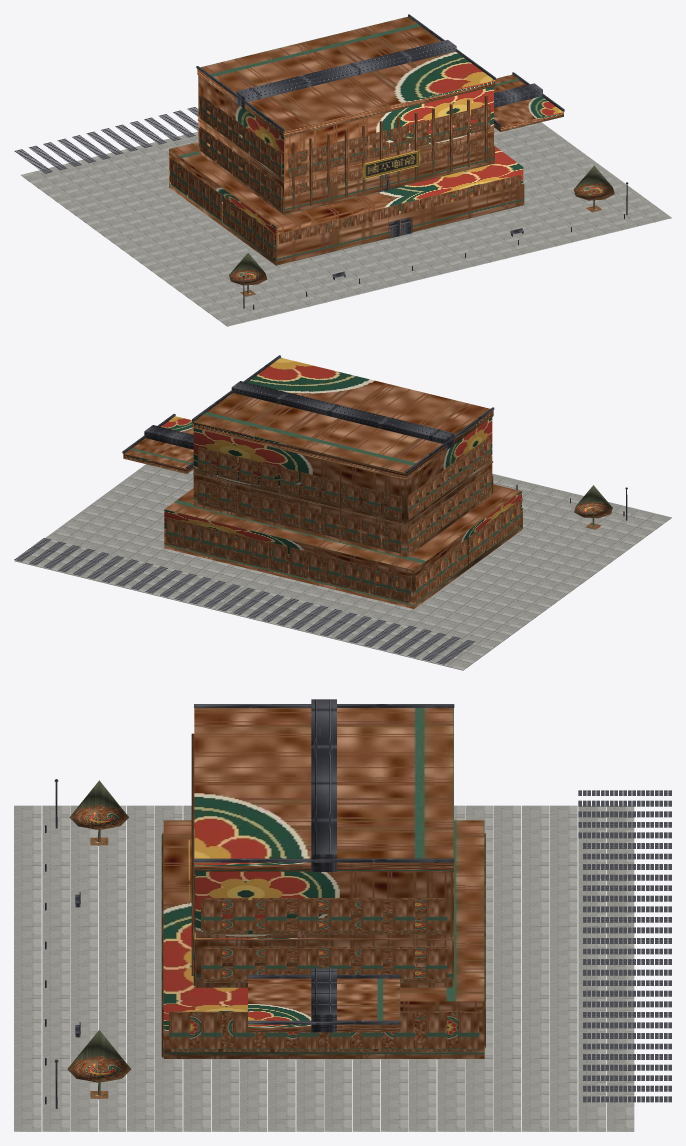
3 views of the same model, one above another, from view 1: azimuth 30°, elevation 25°; view 2: azimuth 150°, elevation 25°; view 3: azimuth 270°, elevation 25° (orthographic). The views are drawn at different scales.
Parts seen in each view (by area): view 1: 11140_02_04621_027_02__mass_body_facade, 11140_02_04621_027_01__plinth_ground_base, 11140_02_04621_027_05__window_sash_glass, 11140_02_04621_027_03__roof_metal_ornament, 11140_02_04621_027_03__roof_deck_structure, 11140_02_04621_027_06__landscape_greenery, 11140_02_04621_027_05__door_hardware_iron, 11140_02_04621_027_04__sign_board; view 2: 11140_02_04621_027_02__mass_body_facade, 11140_02_04621_027_01__plinth_ground_base, 11140_02_04621_027_03__roof_deck_structure, 11140_02_04621_027_03__roof_metal_ornament, 11140_02_04621_027_06__landscape_greenery; view 3: 11140_02_04621_027_01__plinth_ground_base, 11140_02_04621_027_02__mass_body_facade, 11140_02_04621_027_03__roof_deck_structure, 11140_02_04621_027_03__roof_metal_ornament, 11140_02_04621_027_06__landscape_greenery.
Boxes of the visible parts, x1,y1,x2,y2 form: 11140_02_04621_027_02__mass_body_facade: (169,16,563,265); 11140_02_04621_027_01__plinth_ground_base: (20,122,671,326); 11140_02_04621_027_05__window_sash_glass: (282,106,517,255); 11140_02_04621_027_03__roof_metal_ornament: (196,14,564,131); 11140_02_04621_027_03__roof_deck_structure: (14,107,198,173); 11140_02_04621_027_06__landscape_greenery: (229,165,614,296); 11140_02_04621_027_05__door_hardware_iron: (242,173,628,309); 11140_02_04621_027_04__sign_board: (363,151,418,178); 11140_02_04621_027_02__mass_body_facade: (123,357,522,608); 11140_02_04621_027_01__plinth_ground_base: (14,464,671,670); 11140_02_04621_027_03__roof_deck_structure: (14,538,475,664); 11140_02_04621_027_03__roof_metal_ornament: (122,355,494,473); 11140_02_04621_027_06__landscape_greenery: (574,485,612,529); 11140_02_04621_027_01__plinth_ground_base: (14,805,634,1131); 11140_02_04621_027_02__mass_body_facade: (161,708,485,1059); 11140_02_04621_027_03__roof_deck_structure: (578,790,671,1102); 11140_02_04621_027_03__roof_metal_ornament: (194,699,454,1032); 11140_02_04621_027_06__landscape_greenery: (67,780,131,1099).
Bounding box in the file's own units: 71.95 × 19.8 × 61.48.
7 materials, 7 textured.
